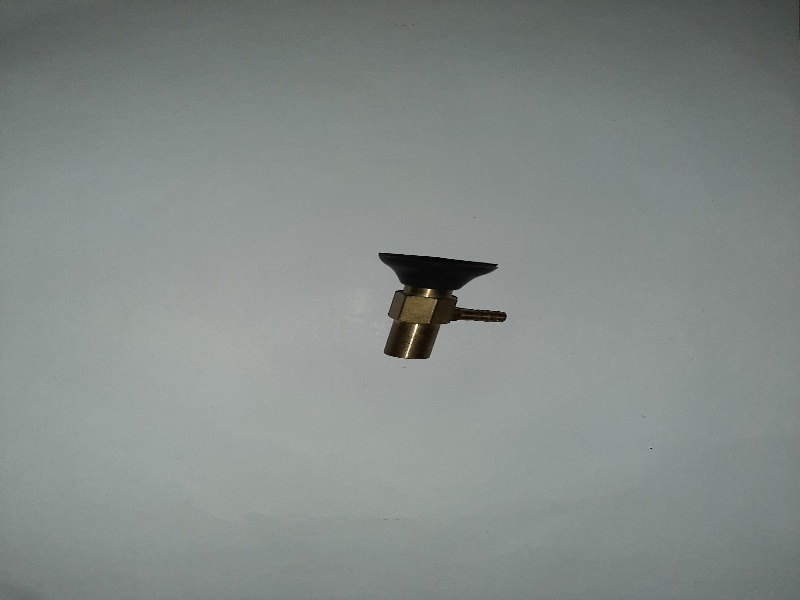Joint Hold: (376, 241, 511, 368)
